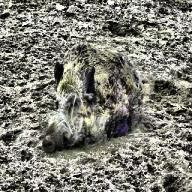boar: (40, 41, 146, 154)
